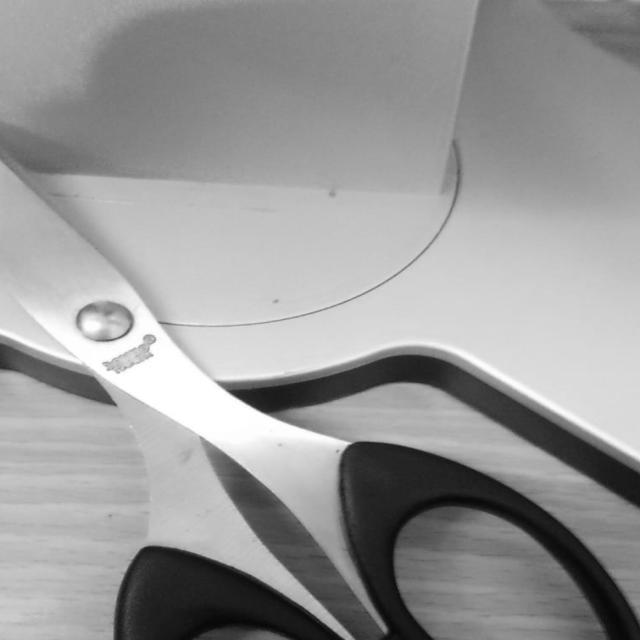tesoura: (0, 157, 639, 639)
